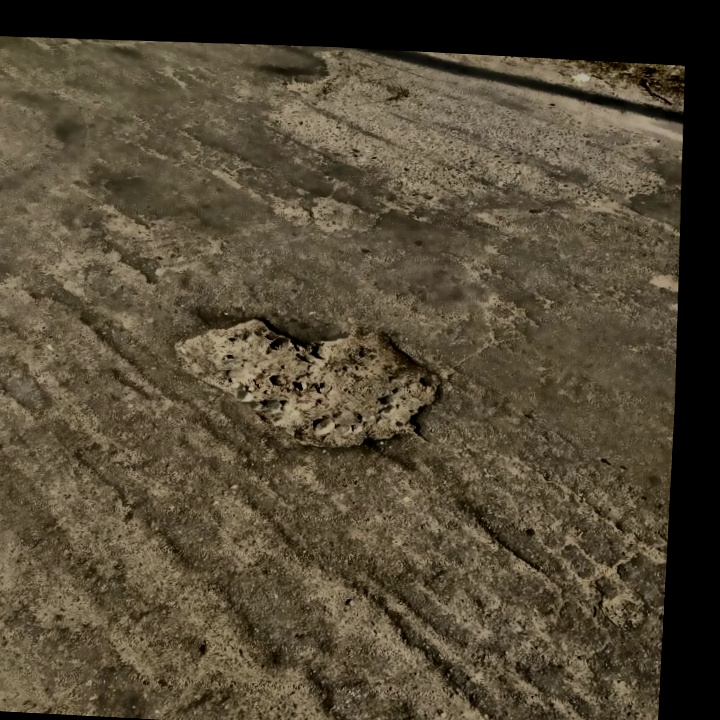pothole: (169, 306, 448, 456)
